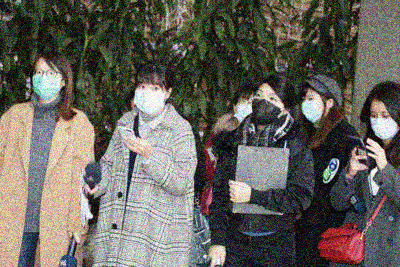with_mask: (134, 79, 166, 116), (251, 88, 281, 126), (32, 66, 62, 99), (369, 108, 398, 141), (300, 92, 323, 124), (234, 98, 254, 122)
